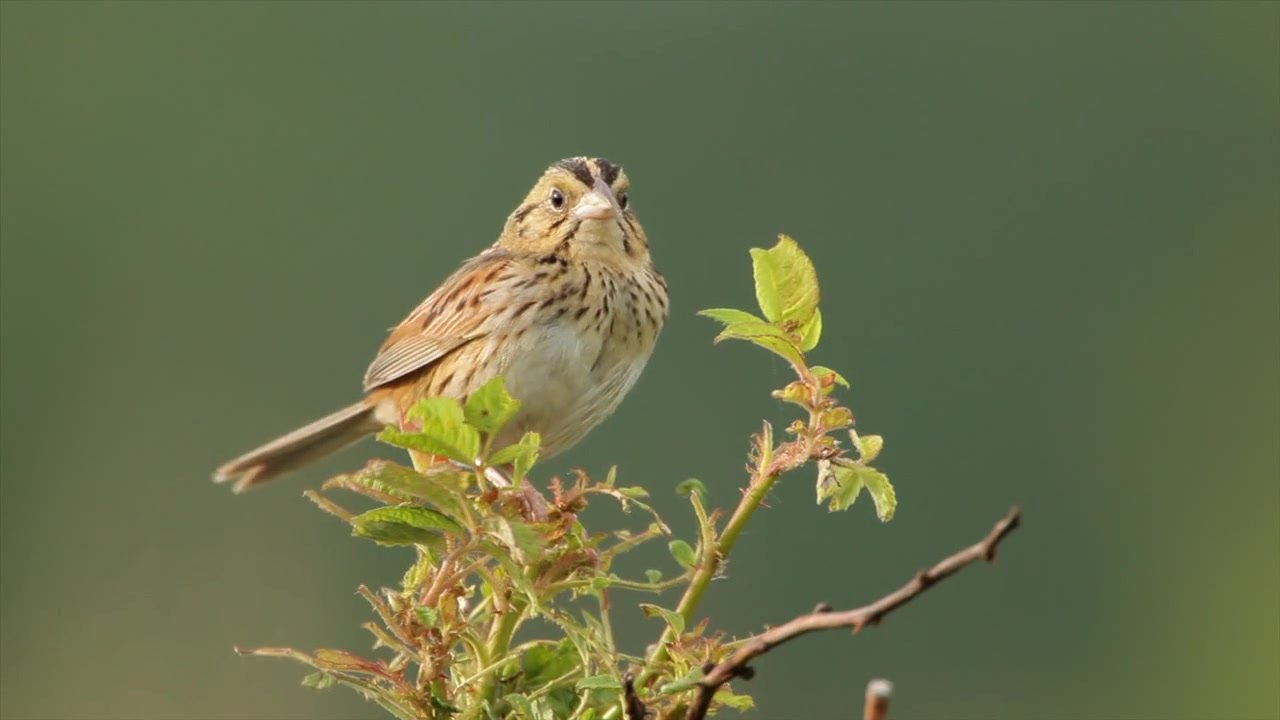bird: (210, 156, 671, 522)
